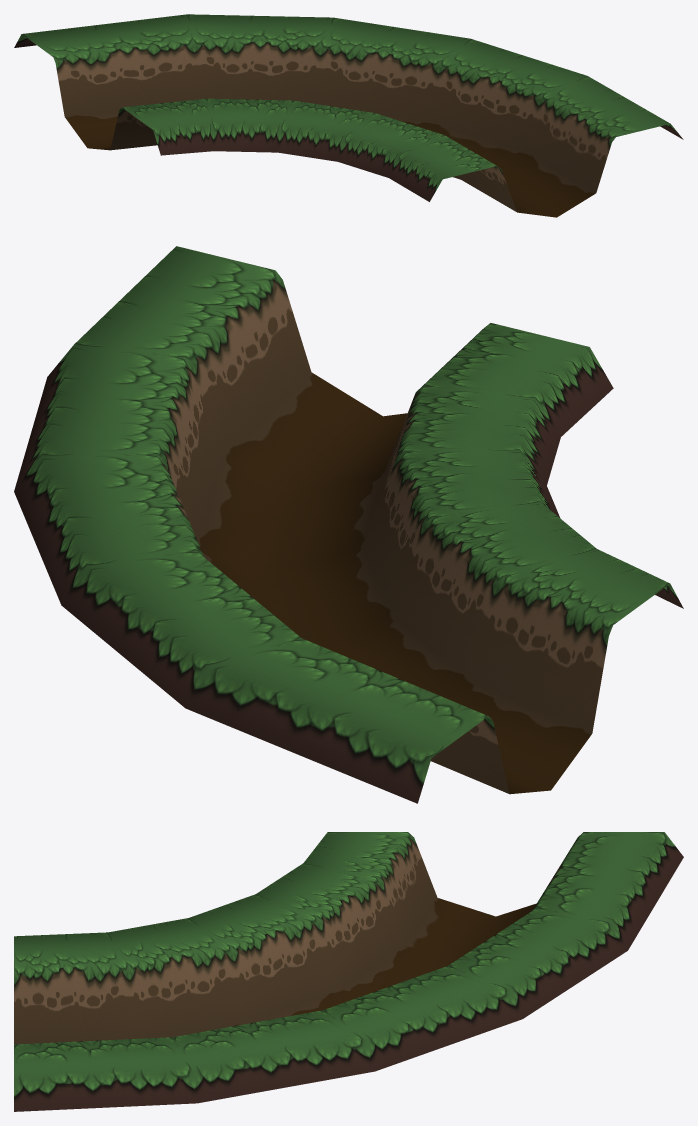
File: Canal_Soil_01.FBX
3 renders of one model, top to bottom at view 1: azimuth 30°, elevation 25°; view 2: azimuth 150°, elevation 25°; view 3: azimuth 270°, elevation 25°, orthographic. The views are drawn at different scales.
Visible parts, largest first — view 1: Canal_Soil_01; view 2: Canal_Soil_01; view 3: Canal_Soil_01.
Part boxes in pixels (bbox=[...]): Canal_Soil_01: bbox=[14, 14, 683, 217]; Canal_Soil_01: bbox=[14, 246, 683, 803]; Canal_Soil_01: bbox=[14, 832, 683, 1111].
Size of the model in its own units: 359 by 55.5 by 399.
